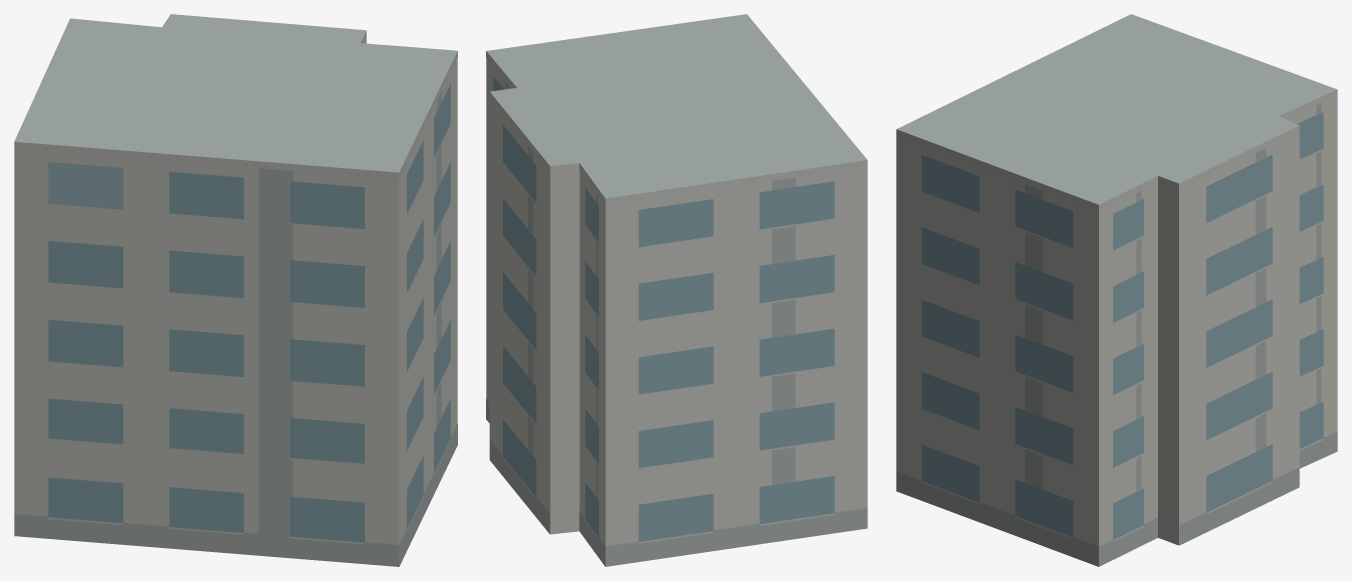
The model's file is survey-upis-32844557.glb.
The picture shows the model from 3 angles, left to right: view 1: azimuth 30°, elevation 25°; view 2: azimuth 150°, elevation 25°; view 3: azimuth 270°, elevation 25°; orthographic projection. The views are drawn at different scales.
Visible parts, largest first — view 1: survey-upis-32844557.tmp; view 2: survey-upis-32844557.tmp; view 3: survey-upis-32844557.tmp.
Boxes of the visible parts, x1,y1,x2,y2 form: survey-upis-32844557.tmp: (14,14,457,566); survey-upis-32844557.tmp: (486,14,867,566); survey-upis-32844557.tmp: (896,14,1337,566).
Bounding box in the file's own units: 15.16 × 13.4 × 14.81.
